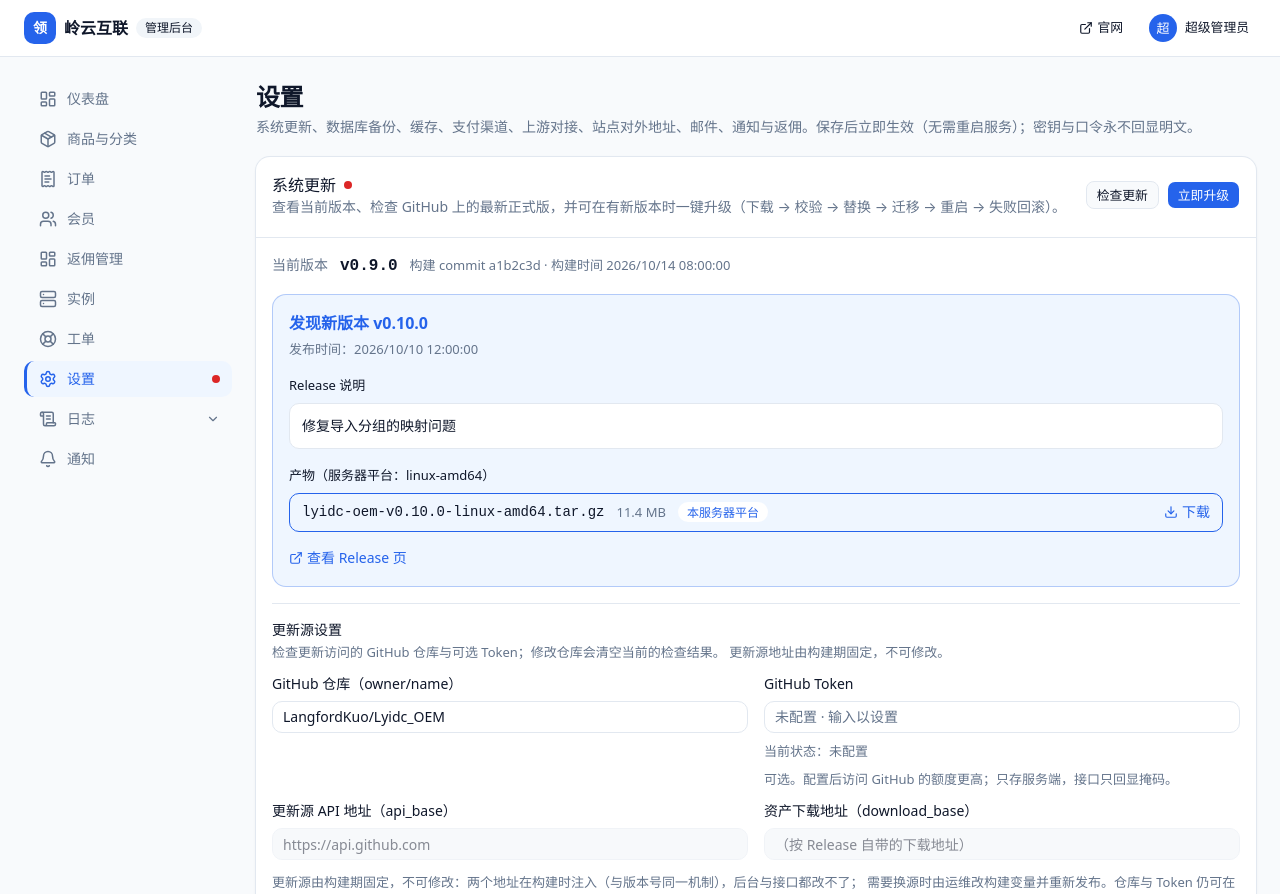
Test case: 管理后台 · 一键升级（R13-B，契约 20） › 互斥拒绝（409）：toast 提示已有任务进行中
Check: the heading "设置" is shown, box [256, 80, 303, 113]
Check: the text "发现新版本 v0.10.0" is shown, box [289, 312, 428, 334]
Click the button with test id "upgrade-apply-button" at (1203, 195), box [1167, 181, 1240, 209]
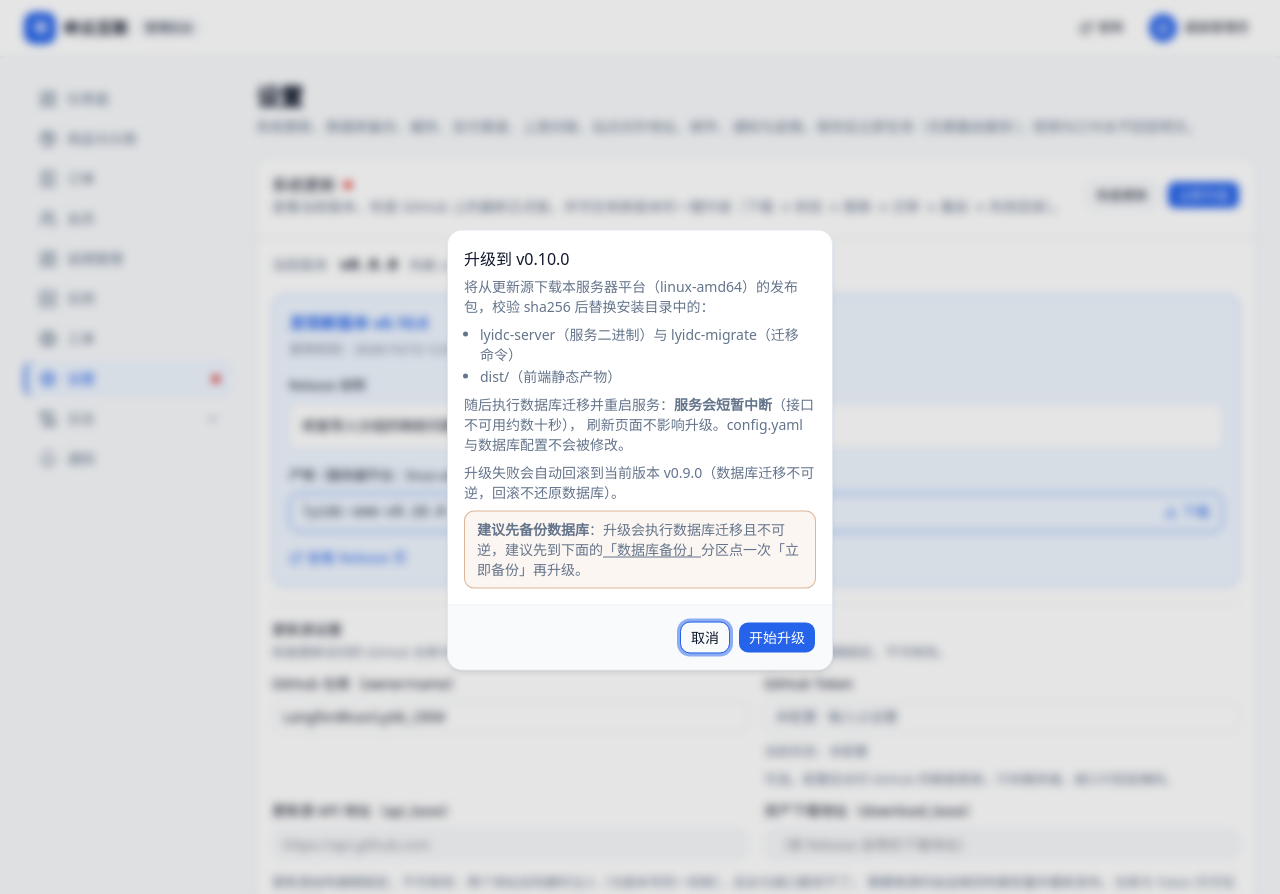
Click the button "开始升级" at (777, 638), box [738, 622, 816, 654]
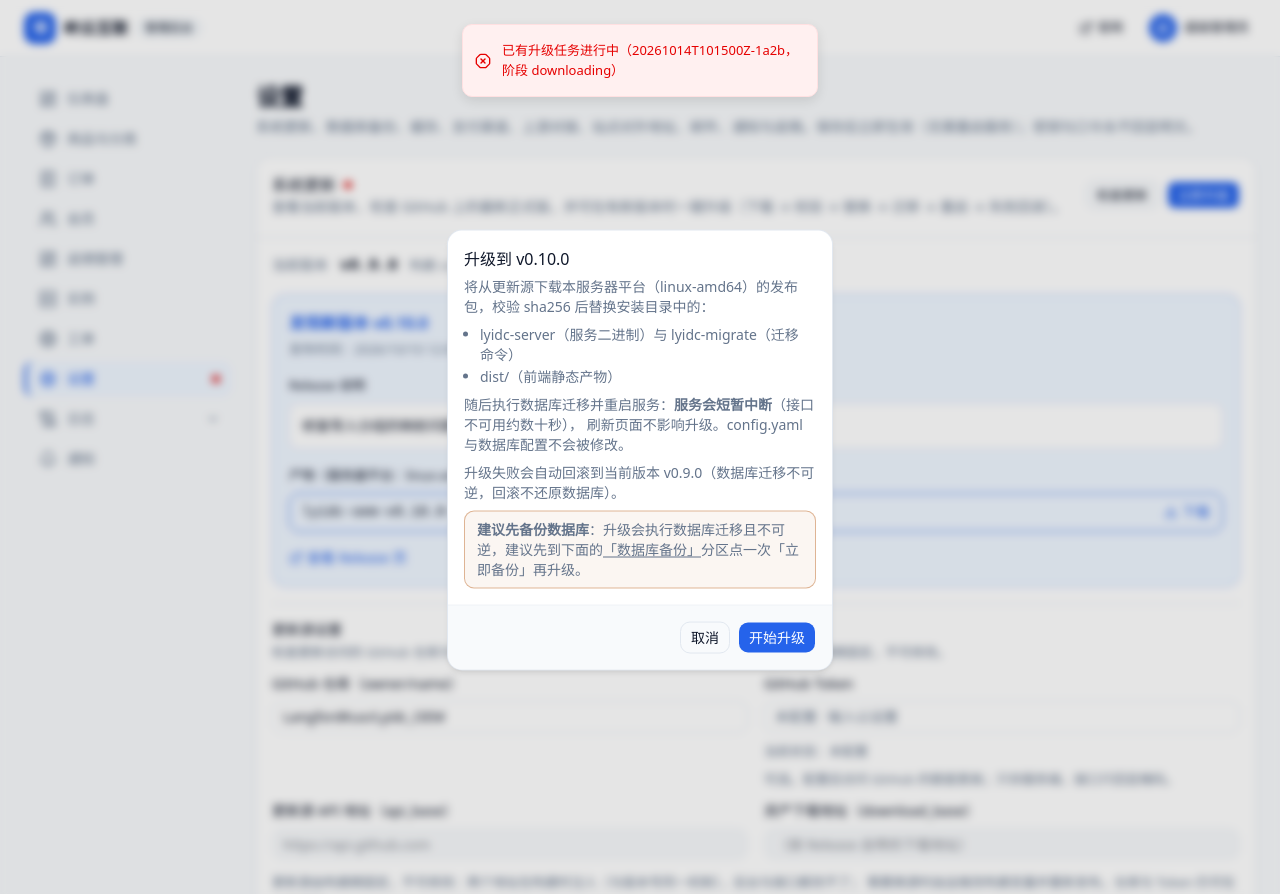
Check: the text "已有升级任务进行中（20261014T101500Z-1a2b，阶段 downloading）" is shown, box [502, 41, 801, 80]
